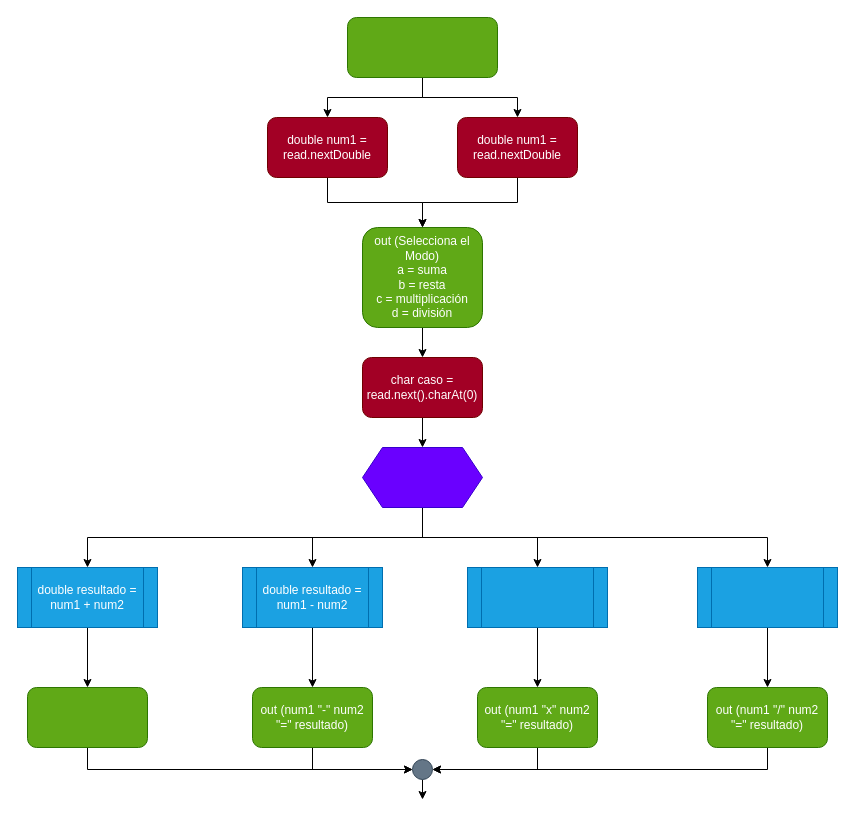
The diagram is 855 pixels wide and 825 high, and some of its shapes have lost their labels. The box of each missing label's shape, as (x1, y1, x2, y2) in pixels:
double resultado = num1 / num2: (696, 566, 838, 628)
double resultado = num1 x num2: (466, 566, 608, 628)
out (Introduce 2 Valores): (346, 16, 498, 78)
out (num1 "+" num2 "=" resultado): (26, 686, 148, 748)
switch caso: (362, 446, 482, 508)
